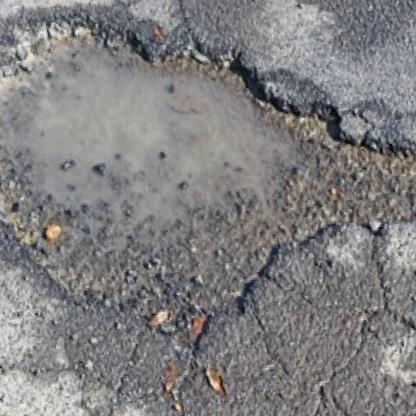pothole: (0, 0, 416, 375)
